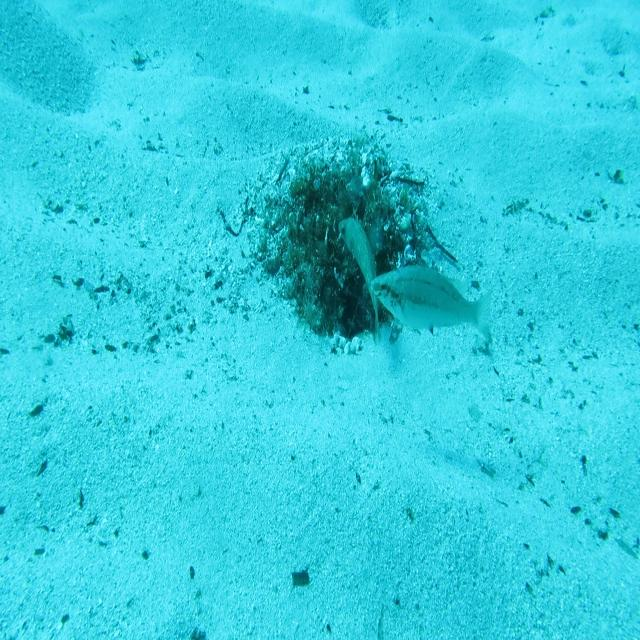FAN: (338, 206, 382, 346)
core_nest: (317, 188, 365, 226)
female: (368, 258, 496, 352)
nest: (240, 126, 442, 364)
vegetation: (290, 567, 311, 588)
